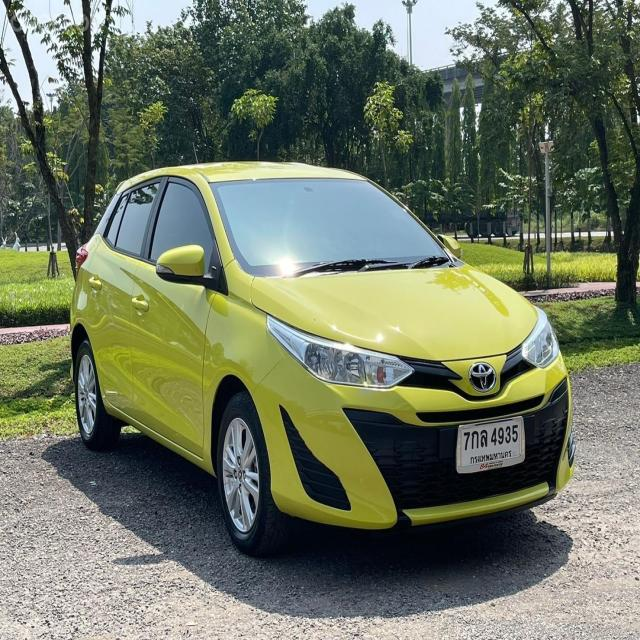license_plate: (455, 414, 527, 475)
